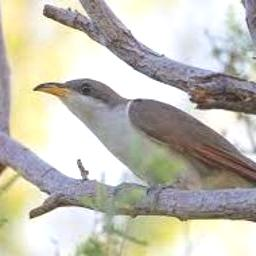Cuckoo: (35, 78, 256, 195)
